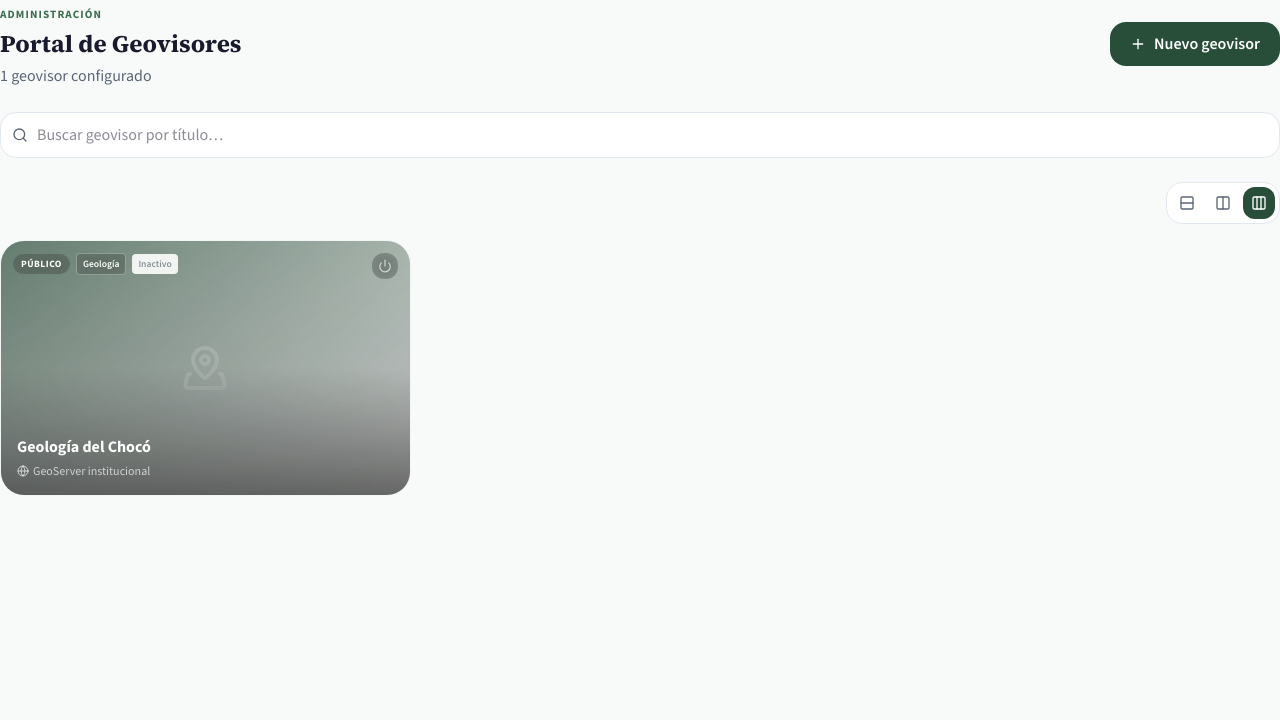
Test case: GestionGeovisores — activar/desactivar › activar con un 409 GEOVISOR_INCOMPLETO abre el diálogo de bloqueo con las capas pendientes
Click the button titled "Activar".
click(385, 266)  # box [372,253,398,279]
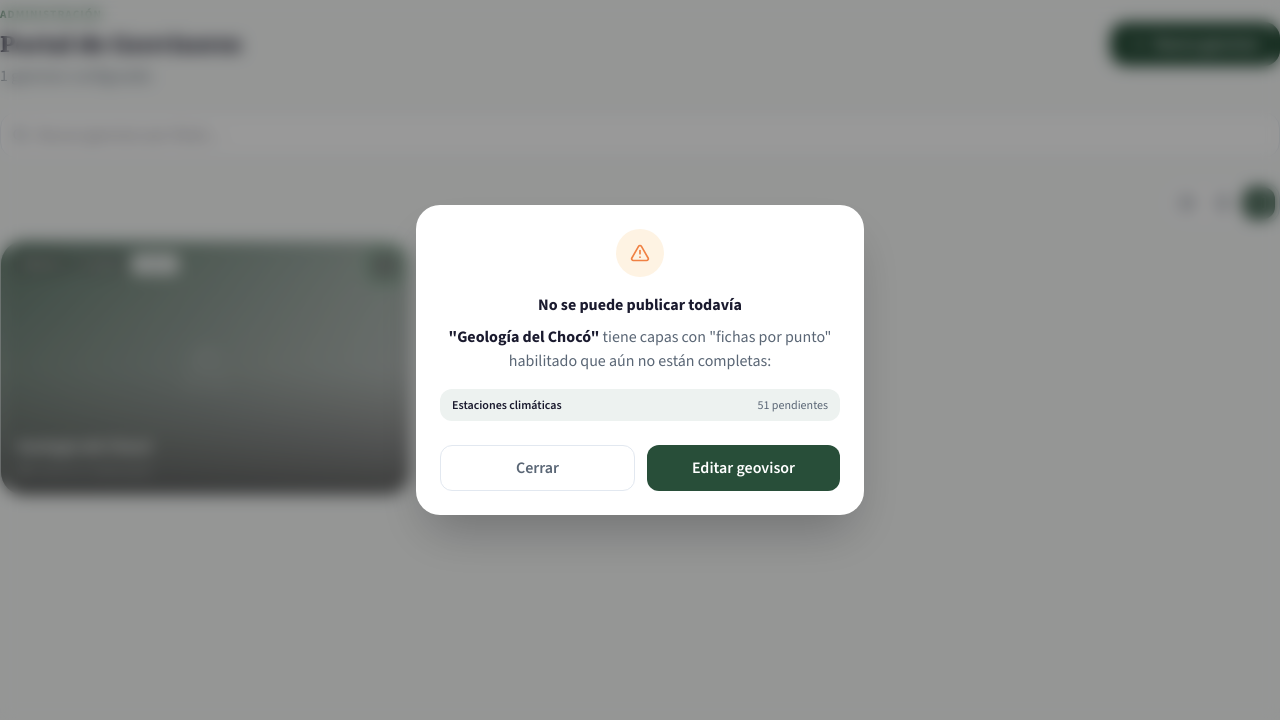
Expected: the heading "No se puede publicar todavía" is shown, [538,294,742,315]
Expected: the text "Estaciones climáticas" is shown, [452,397,562,413]
Expected: the text "51 pendientes" is shown, [758,397,828,413]
